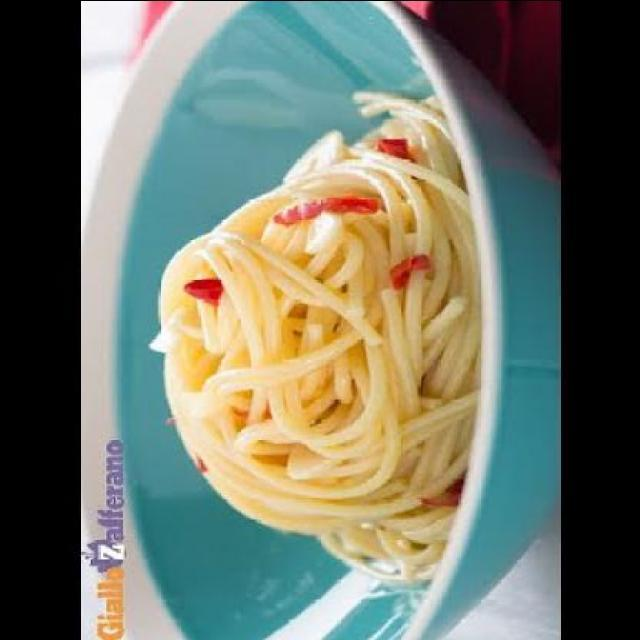Oil pasta: (145, 74, 527, 560)
